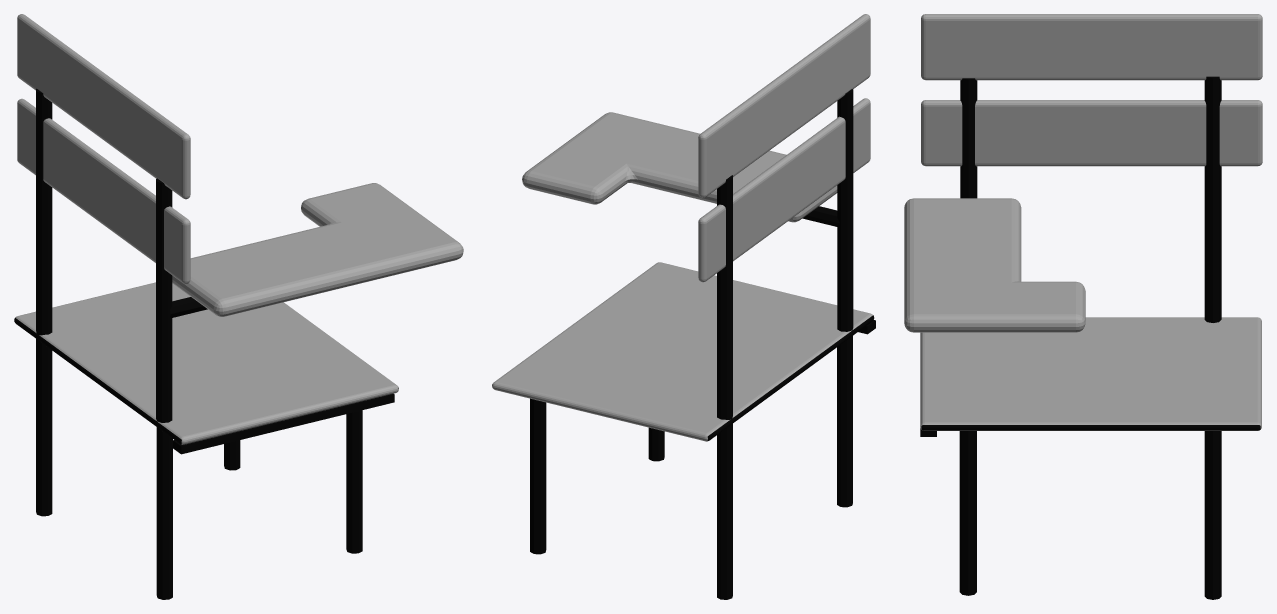
Rendered from Elementary_Chair_1.fbx.
The picture shows the model from 3 angles, left to right: view 1: azimuth 30°, elevation 25°; view 2: azimuth 150°, elevation 25°; view 3: azimuth 270°, elevation 25°; orthographic projection. The views are drawn at different scales.
Parts seen in each view (by area): view 1: Chair; view 2: Chair; view 3: Chair.
Boxes of the visible parts, x1,y1,x2,y2 form: Chair: (14, 14, 463, 599); Chair: (492, 14, 875, 599); Chair: (904, 14, 1262, 599).
Bounding box in the file's own units: 42.8 × 70.81 × 47.08.
Materials: 1 (1 with a texture image).
